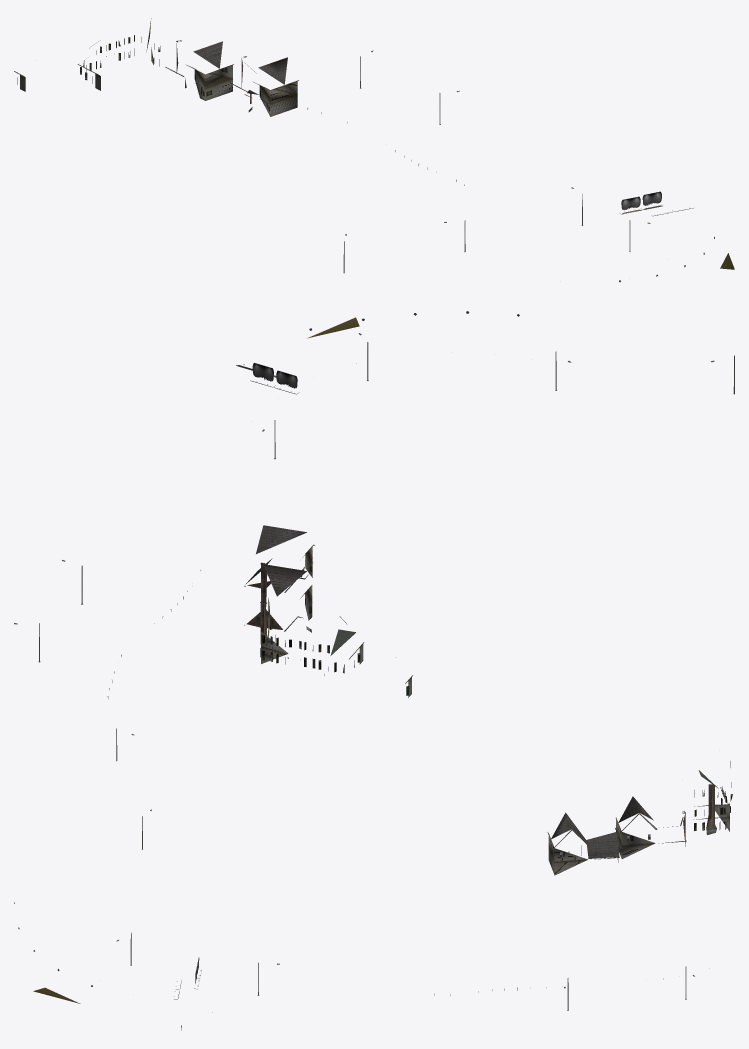
Rendered from world_camden_11_-10.gltf.
3 renders of one model, top to bottom at view 1: azimuth 30°, elevation 25°; view 2: azimuth 150°, elevation 25°; view 3: azimuth 270°, elevation 25°, orthographic. The views are drawn at different scales.
Bounding box in the file's own units: 143 × 42.92 × 212.
21 materials, 21 textured.
